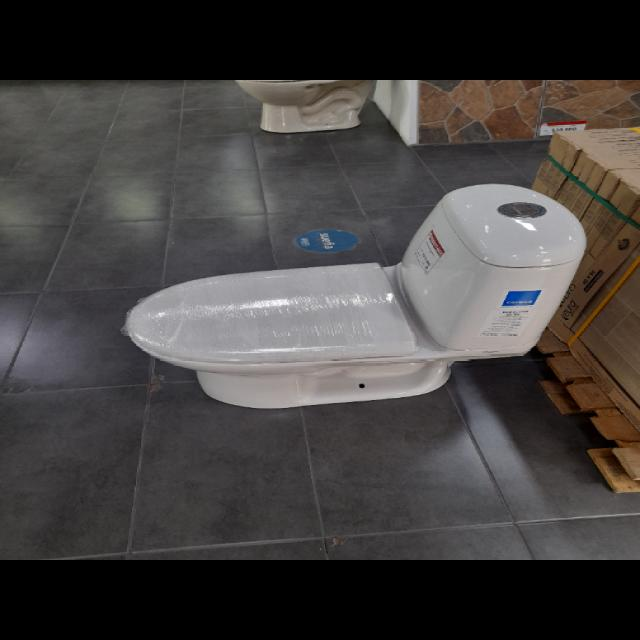toilet: (122, 182, 587, 409), (234, 78, 376, 133)
